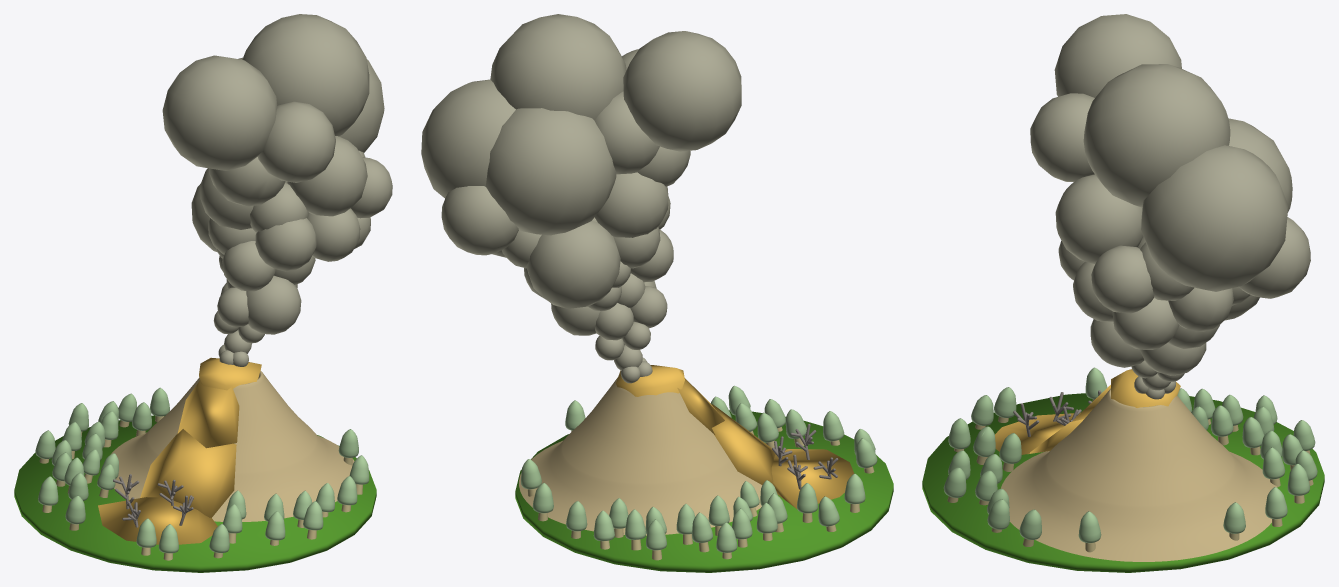
Rendered from eruption.glb.
3 views of the same model, side by side, from view 1: azimuth 30°, elevation 25°; view 2: azimuth 150°, elevation 25°; view 3: azimuth 270°, elevation 25° (orthographic). The views are drawn at different scales.
Visible parts, largest first — view 1: volcano; view 2: volcano; view 3: volcano.
Part boxes in pixels (x1,y1,x2,y2): volcano: (14,14,392,572); volcano: (421,14,893,572); volcano: (922,14,1324,572).
Bounding box in the file's own units: 17.6 × 20.41 × 14.61.
